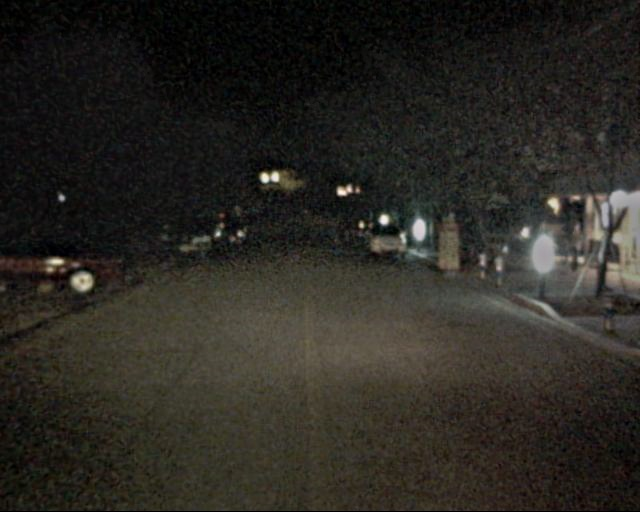person: (527, 223, 552, 283), (560, 223, 583, 279)
